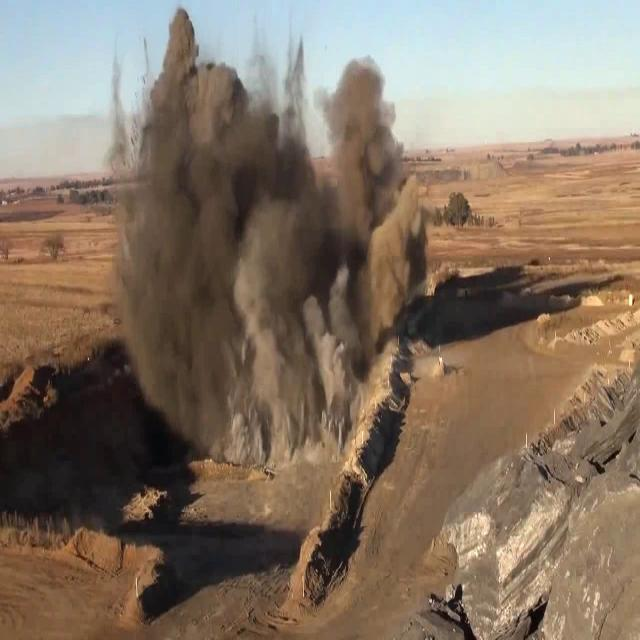explosion: (107, 1, 461, 518)
